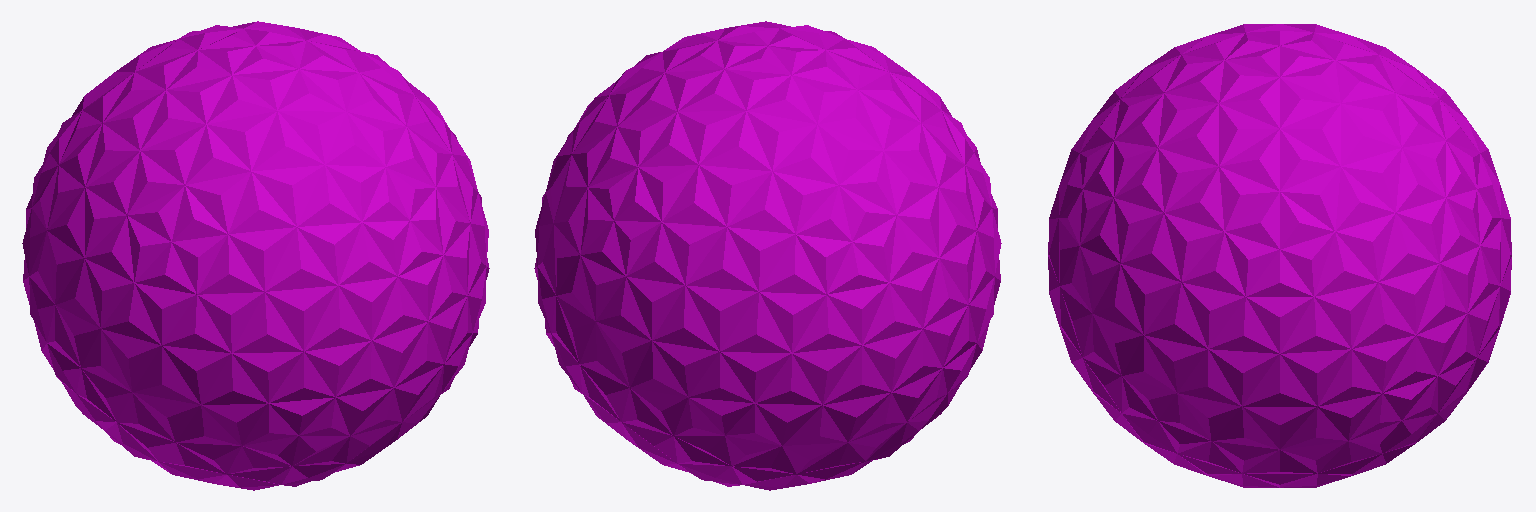
Rendered from jelly_ball.obj.
3 views of the same model, side by side, from view 1: azimuth 30°, elevation 25°; view 2: azimuth 150°, elevation 25°; view 3: azimuth 270°, elevation 25° (orthographic).
Visible parts, largest first — view 1: Icosphere; view 2: Icosphere; view 3: Icosphere.
Boxes of the visible parts, <box> form: Icosphere: <box>22,21,489,490</box>; Icosphere: <box>534,21,1001,490</box>; Icosphere: <box>1048,24,1511,487</box>.
Size of the model in its own units: 2 by 2.01 by 2.